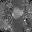people: (12, 8, 23, 19)
